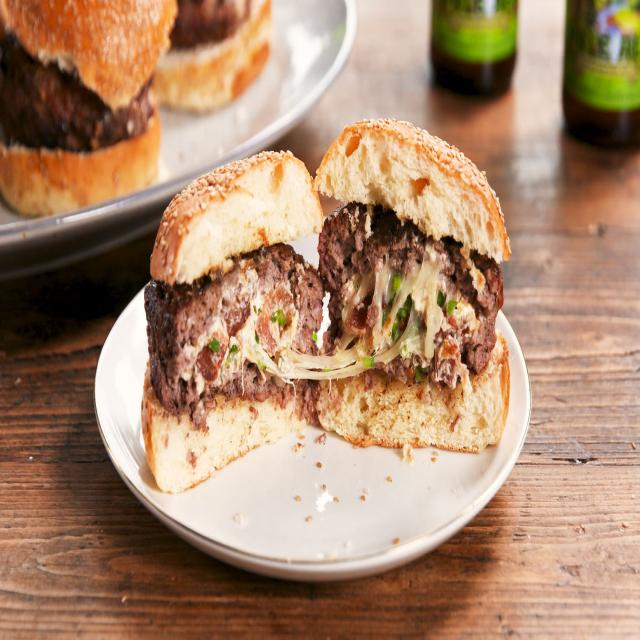burger: (131, 121, 533, 506)
